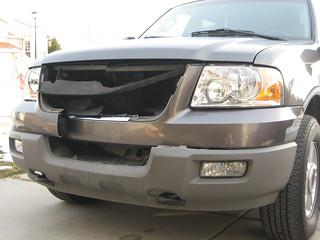front-bumper-dent: (50, 61, 183, 188)
